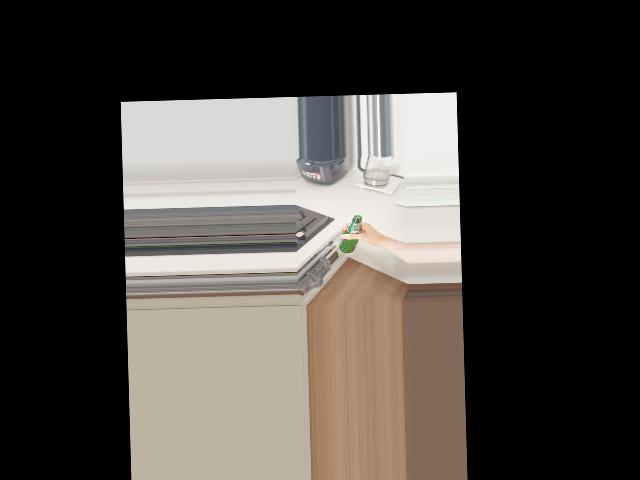beer: (338, 215, 363, 254)
